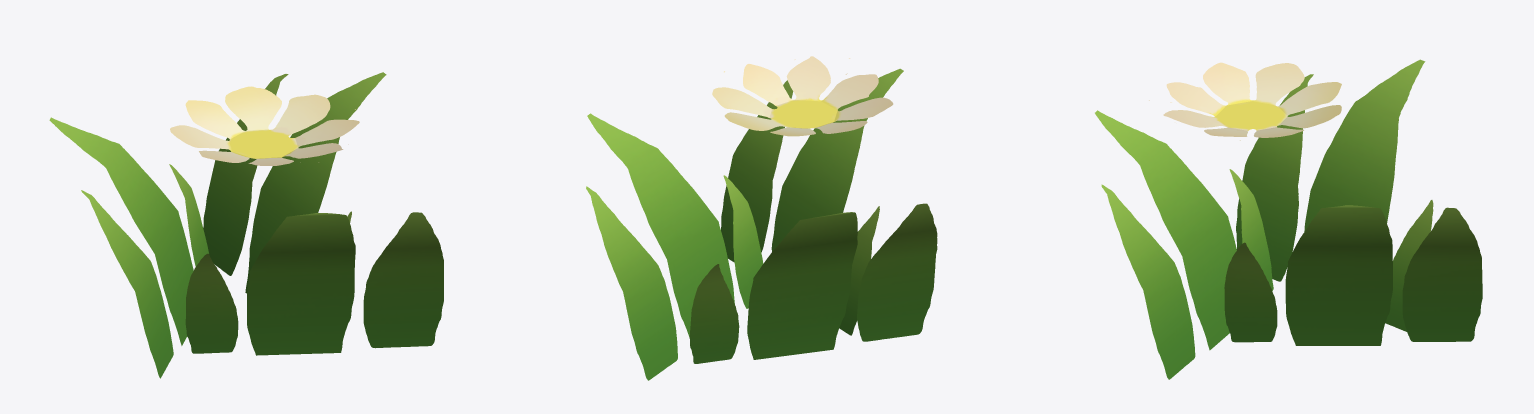
File: flower.fbx
3 renders of one model, left to right at view 1: azimuth 30°, elevation 25°; view 2: azimuth 150°, elevation 25°; view 3: azimuth 270°, elevation 25°, orthographic.
Visible parts, largest first — view 1: pPlane18; view 2: pPlane18; view 3: pPlane18.
Part boxes in pixels (bbox=[...]): pPlane18: bbox=[49, 72, 443, 378]; pPlane18: bbox=[586, 56, 937, 380]; pPlane18: bbox=[1095, 59, 1482, 379].
Size of the model in its own units: 3.44 by 1.88 by 3.75.
1 material, 1 textured.
